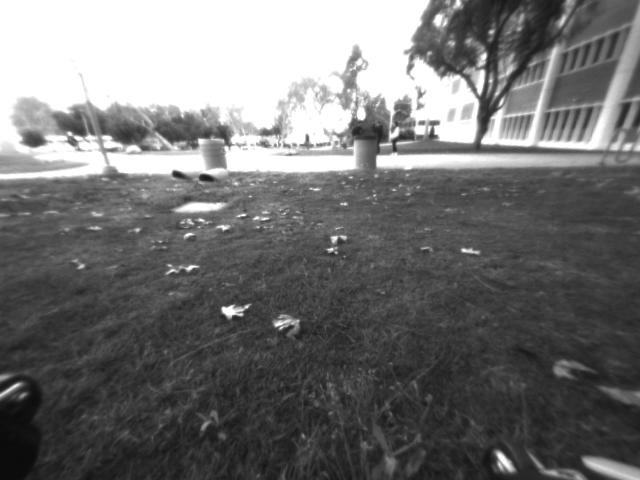trashcan: (196, 134, 231, 175), (351, 137, 379, 176)
